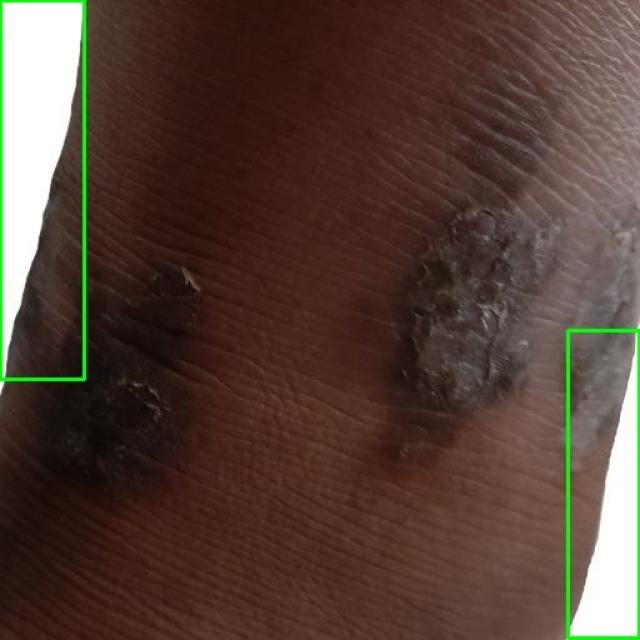Contact Dermatitis: (0, 0, 84, 379), (568, 331, 639, 639)
